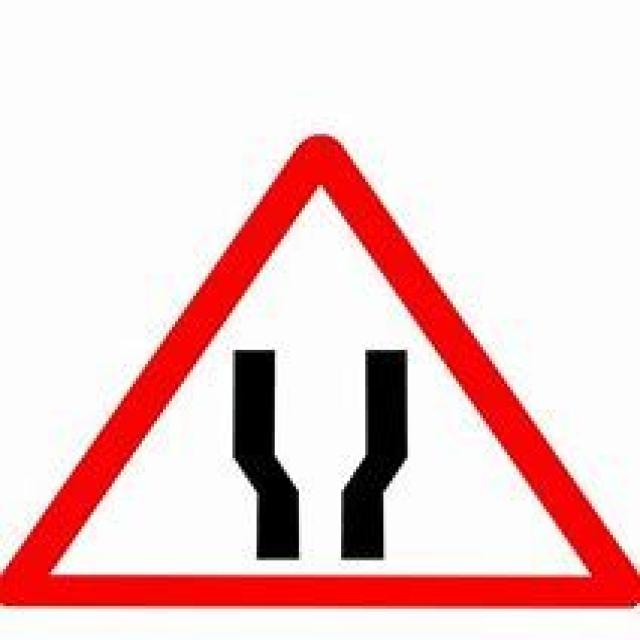do_not_turn_right: (0, 128, 637, 609)
